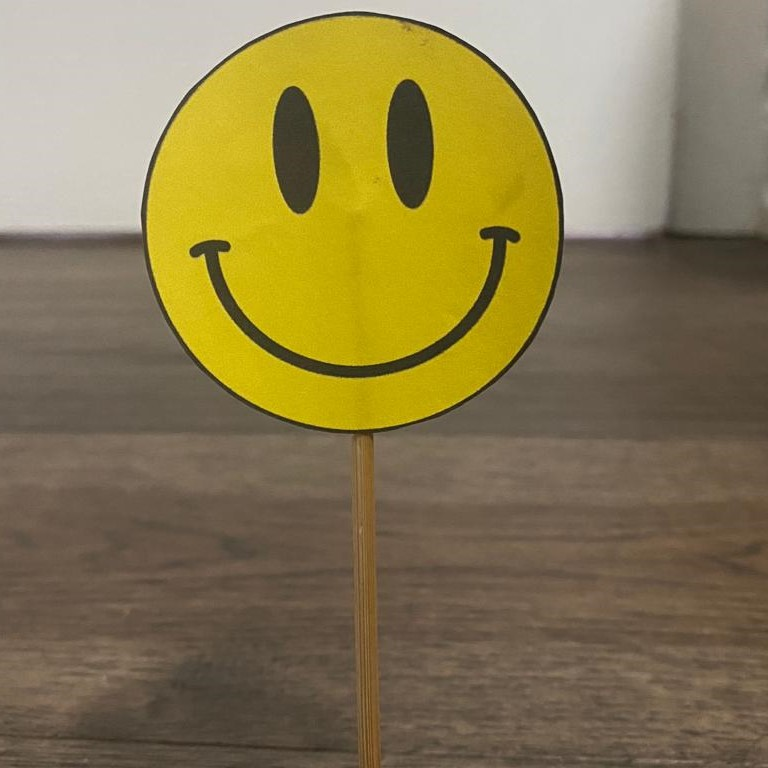Person: (138, 9, 571, 433)
